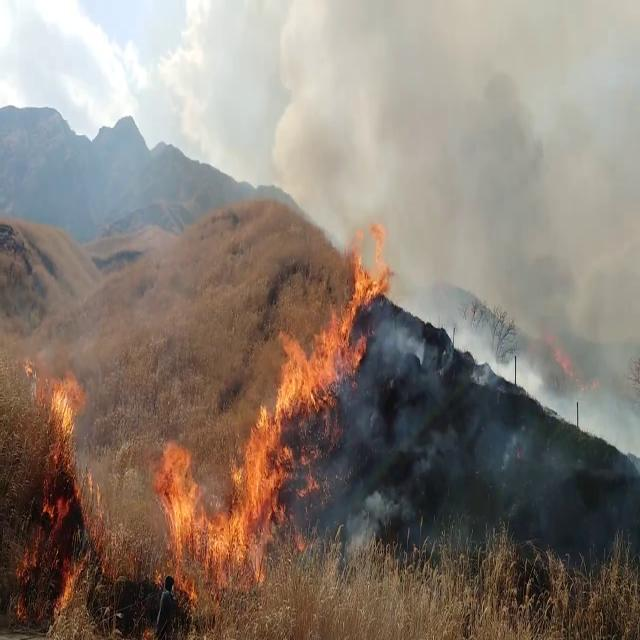Fire: (152, 374, 294, 596), (276, 207, 394, 423), (26, 344, 86, 466)
Smoke: (310, 6, 640, 450)
